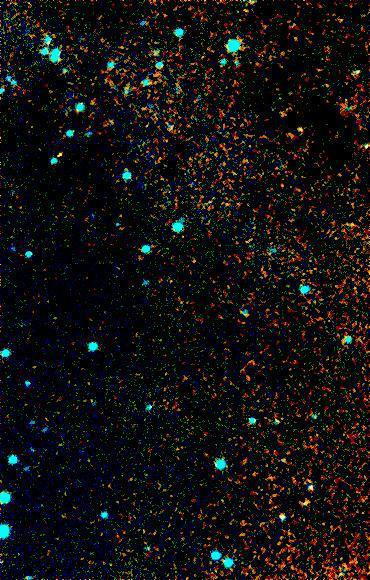star: (198, 121, 228, 151)
